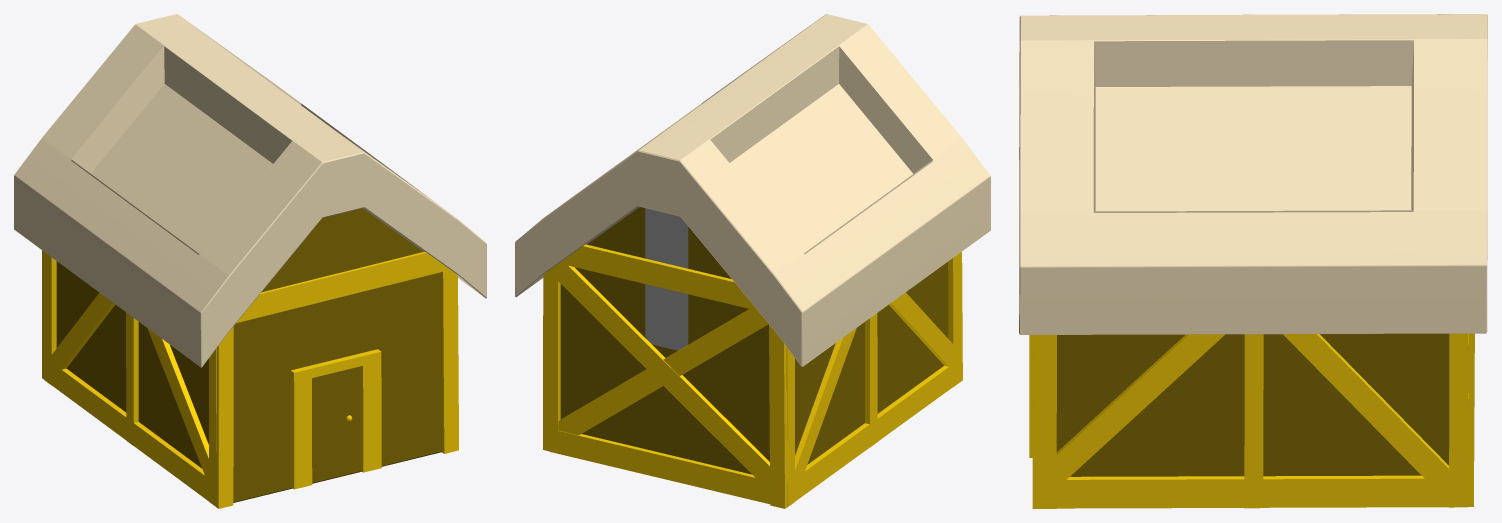
File: Smol House 2.fbx
The picture shows the model from 3 angles, left to right: view 1: azimuth 30°, elevation 25°; view 2: azimuth 150°, elevation 25°; view 3: azimuth 270°, elevation 25°; orthographic projection. The views are drawn at different scales.
Visible parts, largest first — view 1: pCube1, pCube10, Door, pCube12, pCube8, pCube7, pCube6, pCube9, pCube3, pCube5, pCube4; view 2: pCube1, pCube15, pCube11, pCube13, pCube16, pCube14, pCube9, pCube7, pCube6, pCube8, pCube3, pCube4 (+1 smaller); view 3: pCube1, pCube7, pCube9, pCube6, pCube8, pCube3, pCube4, pCube5, pCube11, pCube10, Door.
Boxes of the visible parts, <box> form: pCube1: <box>14,14,486,502</box>; pCube10: <box>216,266,458,508</box>; Door: <box>290,349,381,489</box>; pCube12: <box>236,252,444,323</box>; pCube8: <box>147,328,212,484</box>; pCube7: <box>133,422,208,501</box>; pCube6: <box>51,368,126,439</box>; pCube9: <box>48,293,115,380</box>; pCube3: <box>126,312,138,445</box>; pCube5: <box>44,252,56,385</box>; pCube4: <box>209,348,216,506</box>; pCube1: <box>515,14,990,474</box>; pCube15: <box>552,263,775,491</box>; pCube11: <box>543,266,787,508</box>; pCube13: <box>550,429,773,504</box>; pCube16: <box>558,309,768,435</box>; pCube14: <box>559,244,757,310</box>; pCube9: <box>792,328,856,495</box>; pCube7: <box>877,365,953,441</box>; pCube6: <box>795,423,869,501</box>; pCube8: <box>889,292,953,370</box>; pCube3: <box>865,313,877,447</box>; pCube4: <box>948,253,960,386</box>; pCube1: <box>1019,14,1487,476</box>; pCube7: <box>1056,476,1244,508</box>; pCube9: <box>1283,334,1456,500</box>; pCube6: <box>1263,475,1448,507</box>; pCube8: <box>1047,334,1224,488</box>; pCube3: <box>1244,334,1263,508</box>; pCube4: <box>1037,335,1056,508</box>; pCube5: <box>1449,333,1468,507</box>; pCube11: <box>1468,333,1474,506</box>; pCube10: <box>1032,335,1038,508</box>; Door: <box>1029,335,1033,457</box>.
Size of the model in its own units: 3.04 by 3.33 by 3.46.
